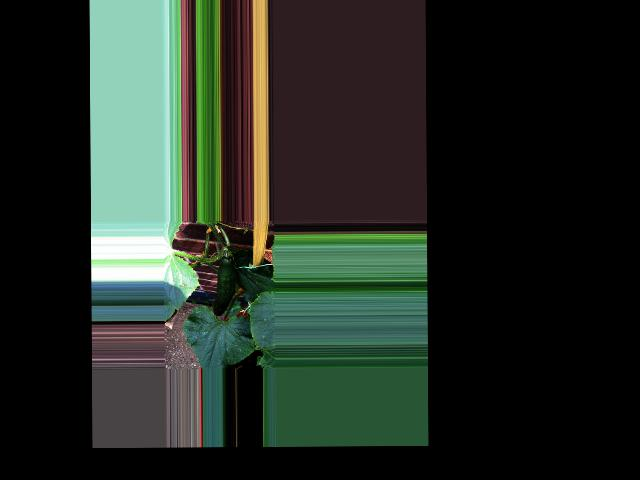cucumber: (212, 255, 236, 316)
